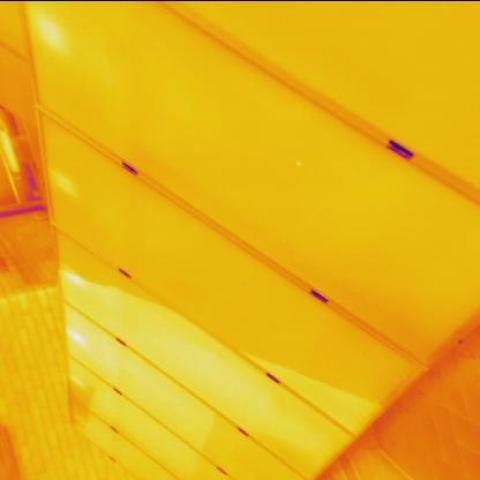fault: (38, 17, 69, 58), (63, 317, 86, 348), (60, 262, 87, 287)
